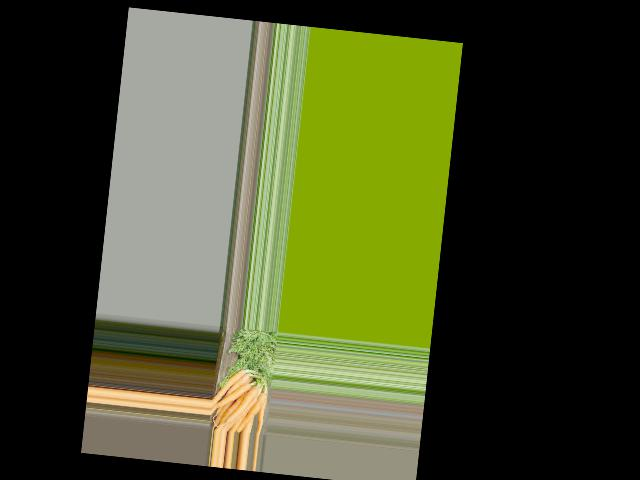carrot: (235, 388, 268, 436)
